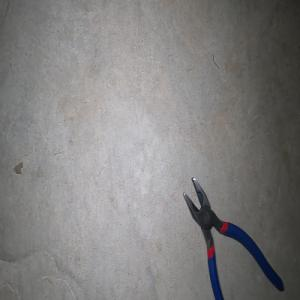Pliers: (182, 176, 284, 300)
